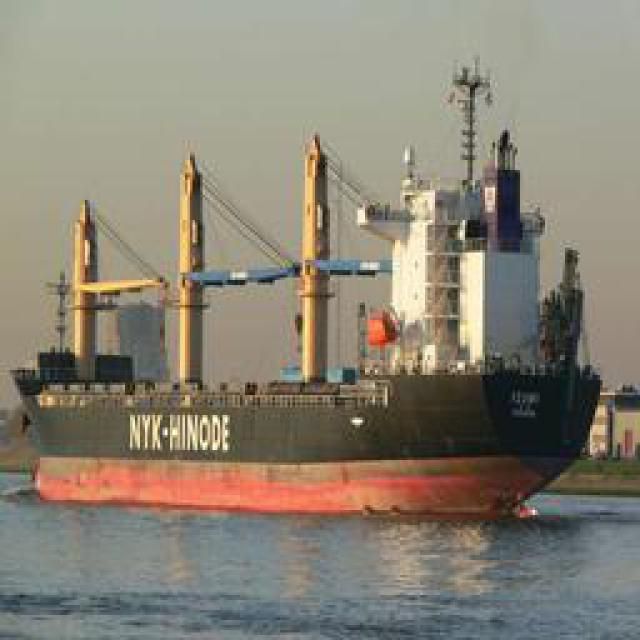Ship: (29, 116, 609, 534)
